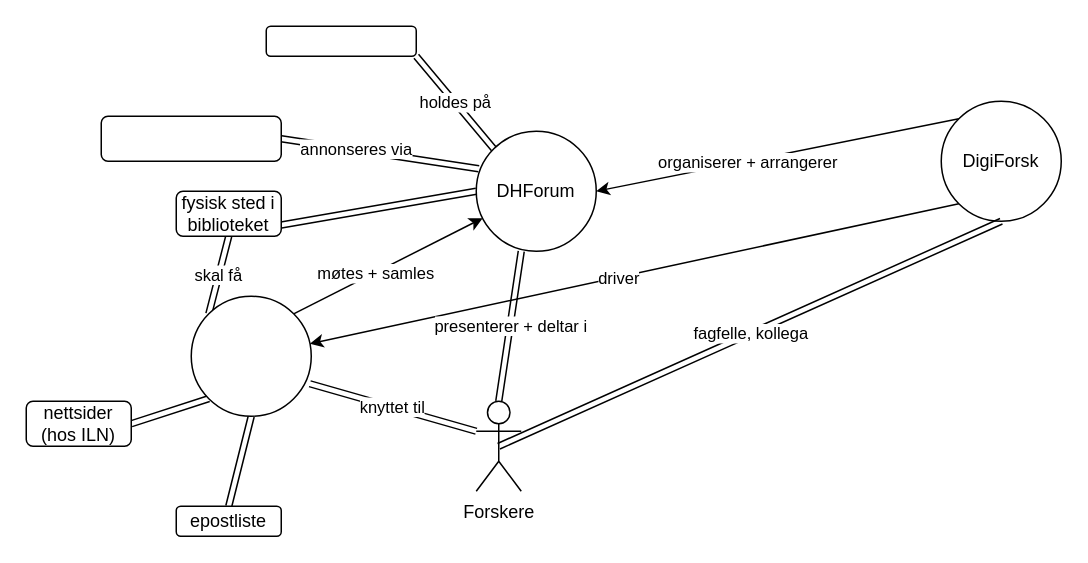
Some shapes in this 1088 by 563 pixel diagram are drawn without their labels. The centre of each missing label's shape, as x and y in pixels:
#DHOslo nettverk: (250,355)
scene HumSam: (340,40)
sosiale medier (Twitter, Facebook): (190,138)
